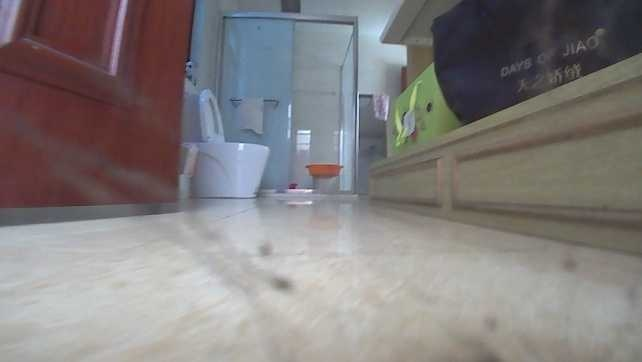toilet: (184, 88, 274, 199)
